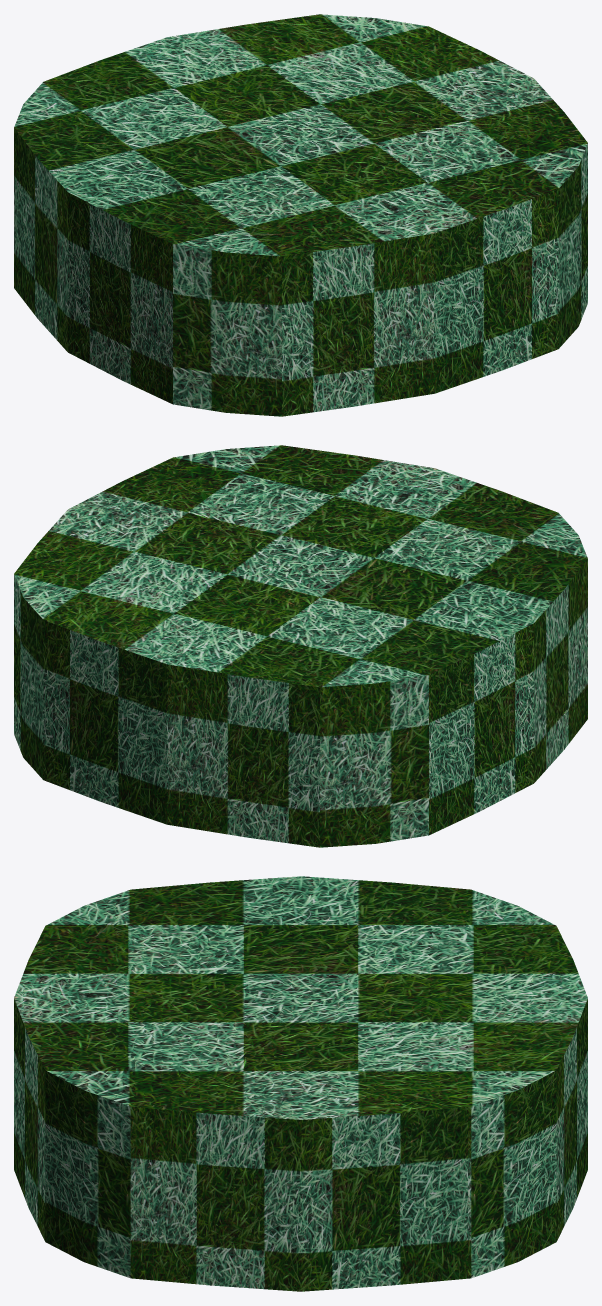
The model's file is Floor8FullCircle.fbx.
3 renders of one model, top to bottom at view 1: azimuth 30°, elevation 25°; view 2: azimuth 150°, elevation 25°; view 3: azimuth 270°, elevation 25°, orthographic. The views are drawn at different scales.
Visible parts, largest first — view 1: Floor.008FullCricle; view 2: Floor.008FullCricle; view 3: Floor.008FullCricle.
Boxes of the visible parts, <box> form: Floor.008FullCricle: <box>14,14,587,416</box>; Floor.008FullCricle: <box>14,445,587,847</box>; Floor.008FullCricle: <box>14,876,587,1291</box>.
Size of the model in its own units: 152 by 49.81 by 151.
